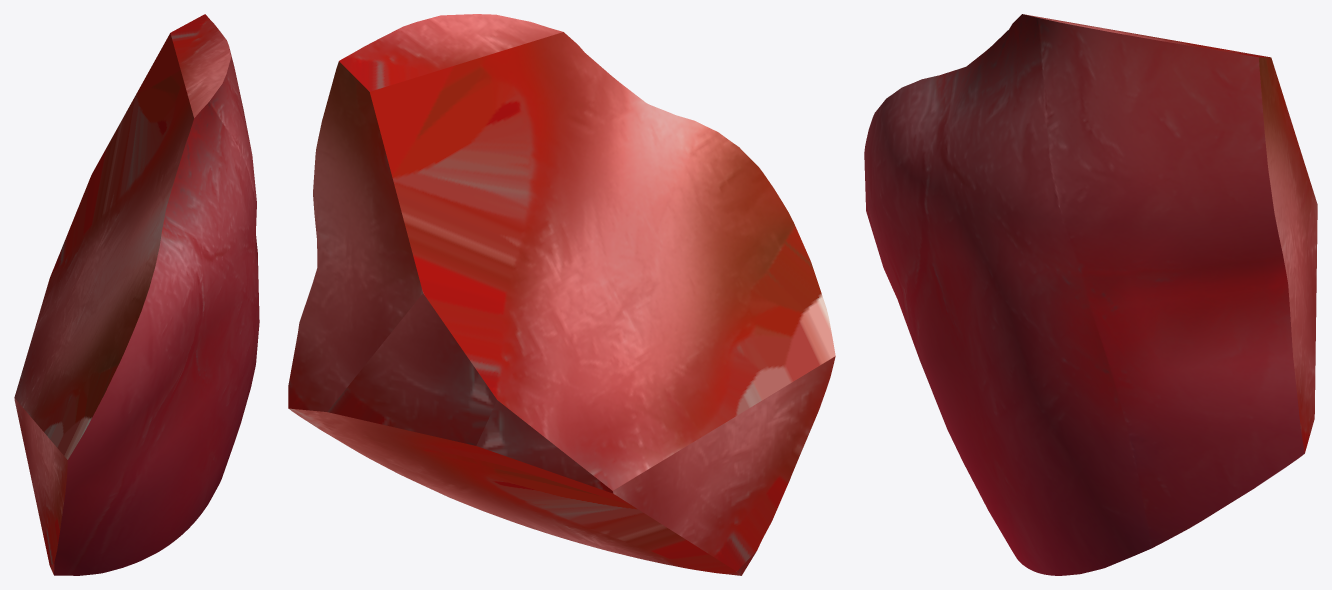
Rendered from SM_HeartPiece_10_.FBX.
3 views of the same model, side by side, from view 1: azimuth 30°, elevation 25°; view 2: azimuth 150°, elevation 25°; view 3: azimuth 270°, elevation 25° (orthographic). The views are drawn at different scales.
Parts seen in each view (by area): view 1: SM_HeartPiece_10_; view 2: SM_HeartPiece_10_; view 3: SM_HeartPiece_10_.
Part boxes in pixels (x1,y1,x2,y2): SM_HeartPiece_10_: [14, 14, 259, 575]; SM_HeartPiece_10_: [288, 14, 835, 575]; SM_HeartPiece_10_: [864, 14, 1317, 575].
Size of the model in its own units: 303 by 293 by 430.
